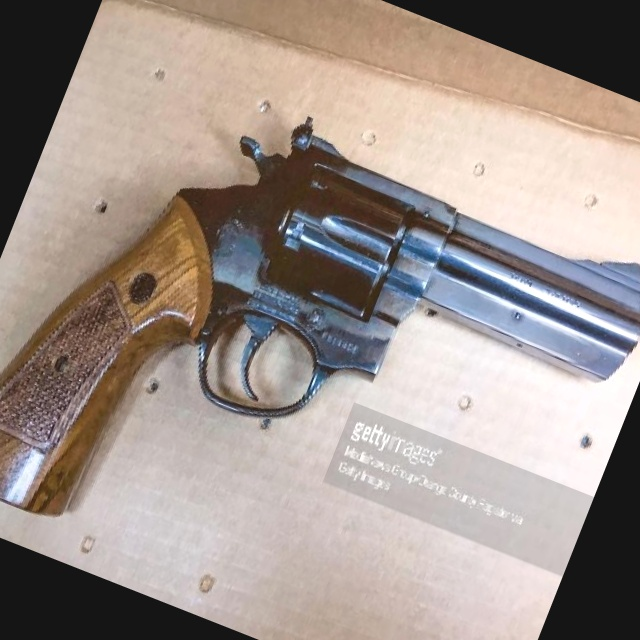gun: (0, 43, 640, 640)
